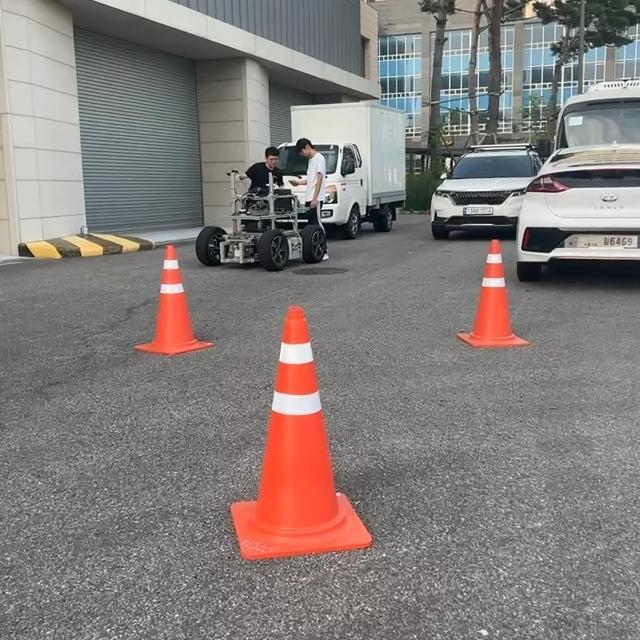fallen_object: (162, 292, 386, 553), (449, 232, 562, 388), (115, 223, 226, 363)
